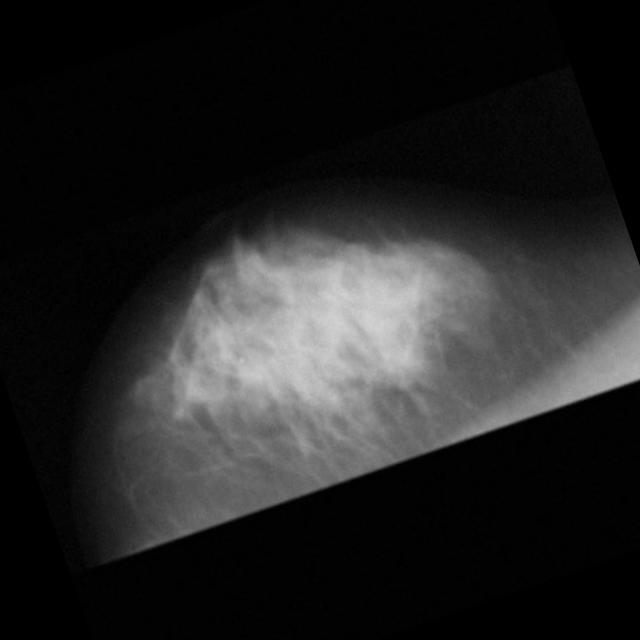SPIC: (354, 312, 452, 410)
